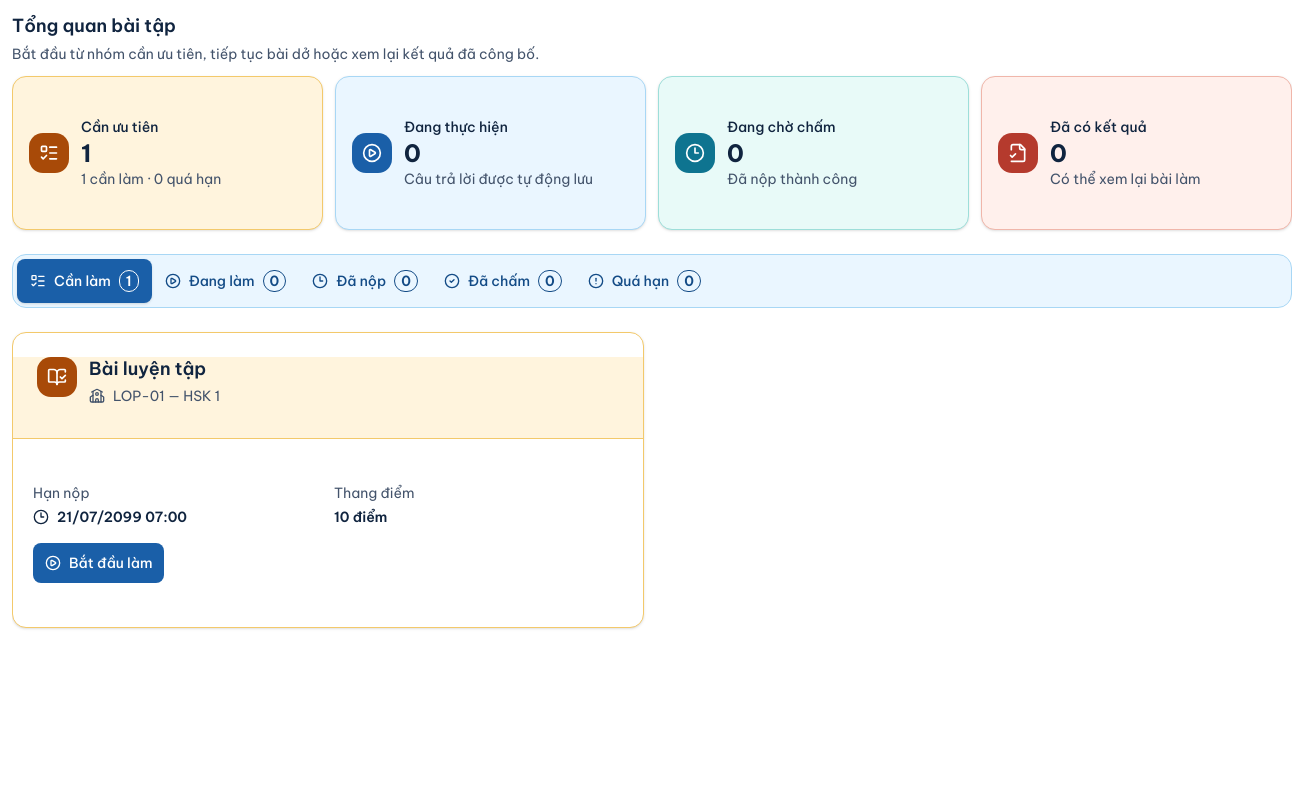
loading khi bắt đầu lượt làm › khóa nút và hiện loading ngay khi bắt đầu bài tập
Click the button "Bắt đầu làm" at [99, 563], box [33, 543, 164, 583]
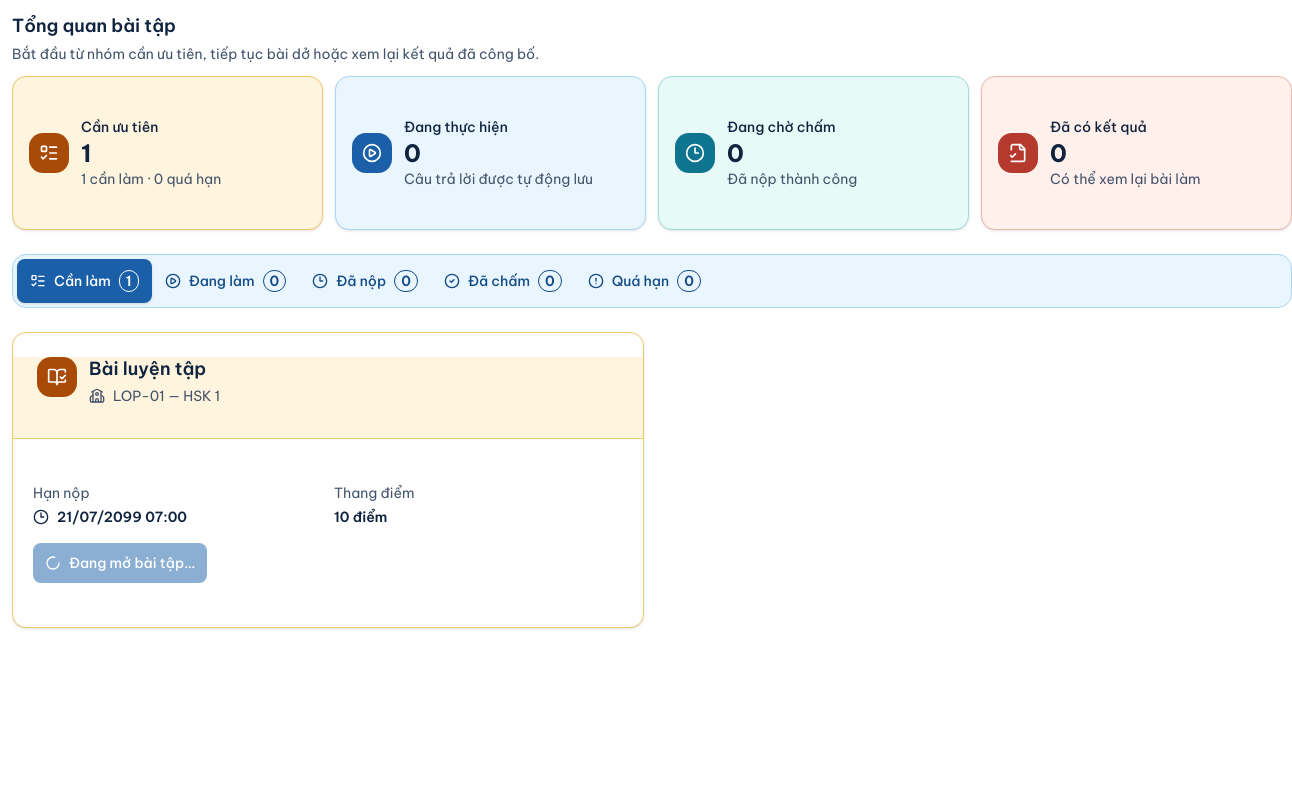
Now the button "Đang mở bài tập…" is disabled, box [33, 543, 207, 583]
